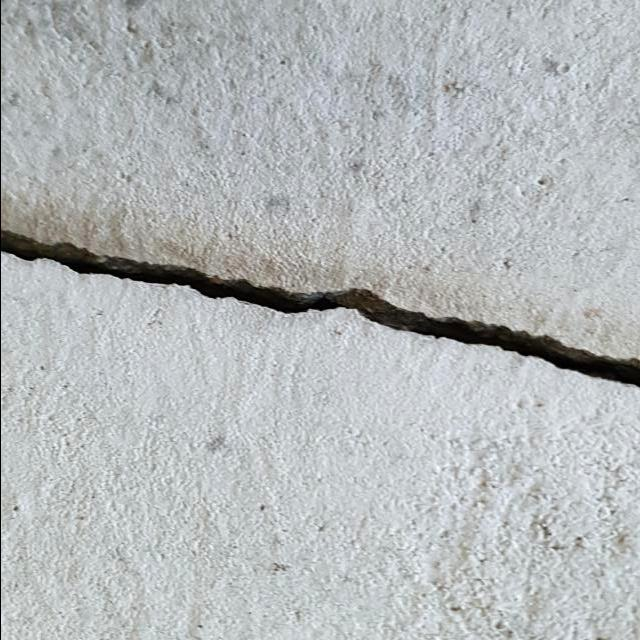SurfaceCrack: (0, 187, 639, 423)
